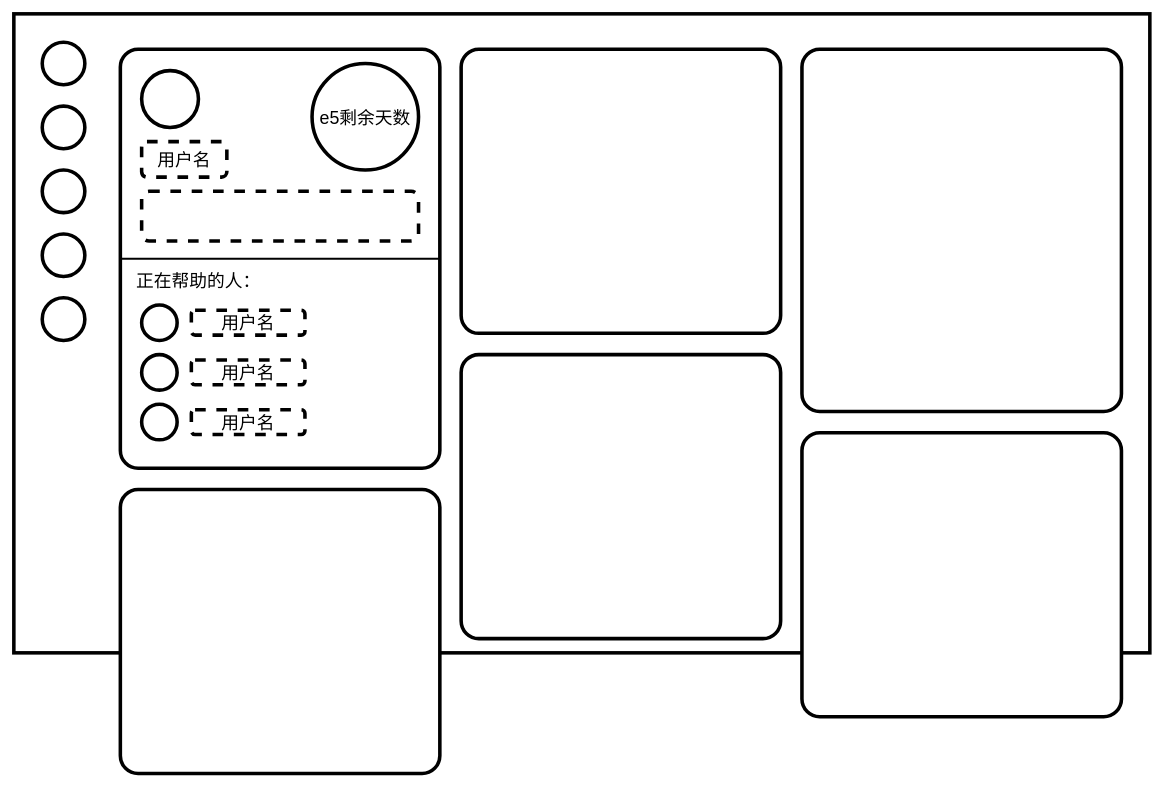
Image size: 1164x787. Some labels were removed from this diagram. The centre of each missing label's shape, as x and y in pixels:
"介绍" belongs at [280,215].
"头像" belongs at [170,99].
